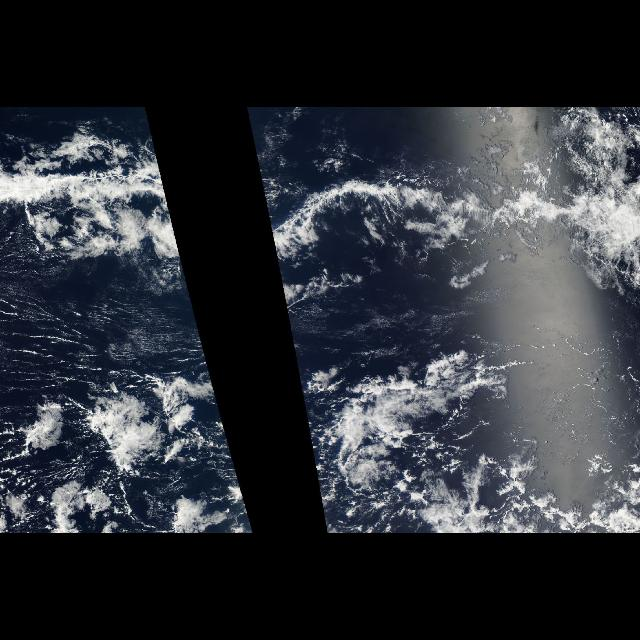Fish: (252, 132, 566, 288), (0, 132, 188, 288)
Sugar: (3, 270, 208, 372), (283, 291, 425, 364)
